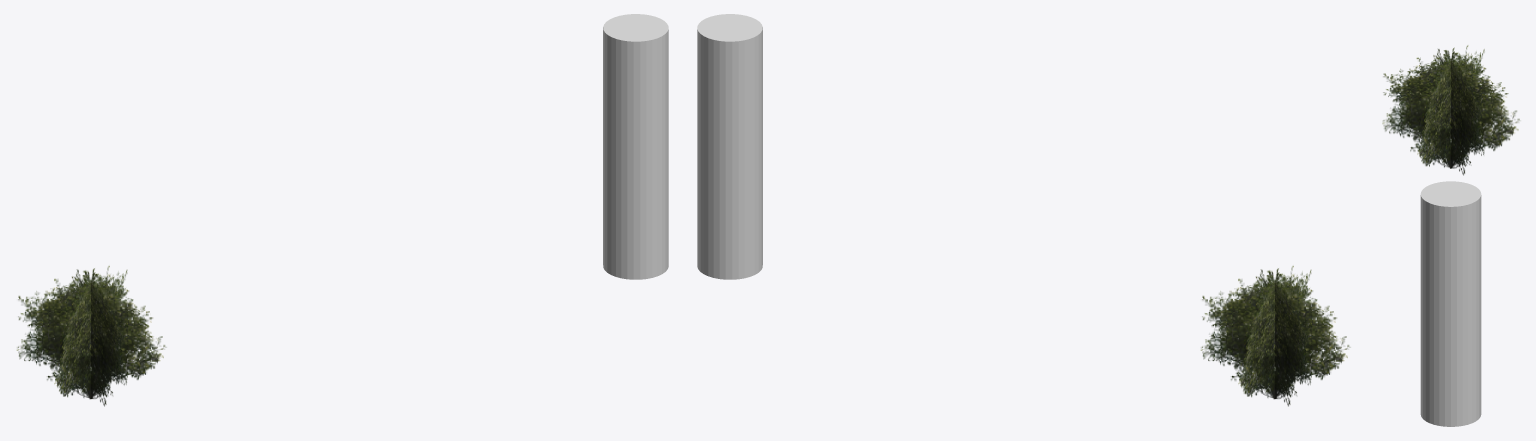
Rendered from bush.glb.
The picture shows the model from 3 angles, left to right: view 1: azimuth 30°, elevation 25°; view 2: azimuth 150°, elevation 25°; view 3: azimuth 270°, elevation 25°; orthographic projection. The views are drawn at different scales.
Visible parts, largest first — view 1: Ref-noimp, Bush; view 2: Ref-noimp, Bush; view 3: Ref-noimp, Bush.
Boxes of the visible parts, x1,y1,x2,y2 form: Ref-noimp: (603,14,668,279); Bush: (17,266,166,406); Ref-noimp: (697,14,762,279); Bush: (1201,266,1350,406); Ref-noimp: (1420,181,1481,426); Bush: (1382,45,1519,175).
Bounding box in the file's own units: 5.55 × 2 × 1.17.
1 material, 1 textured.
